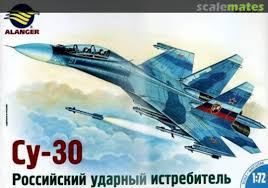maybay_muctieu: (9, 29, 261, 156)
